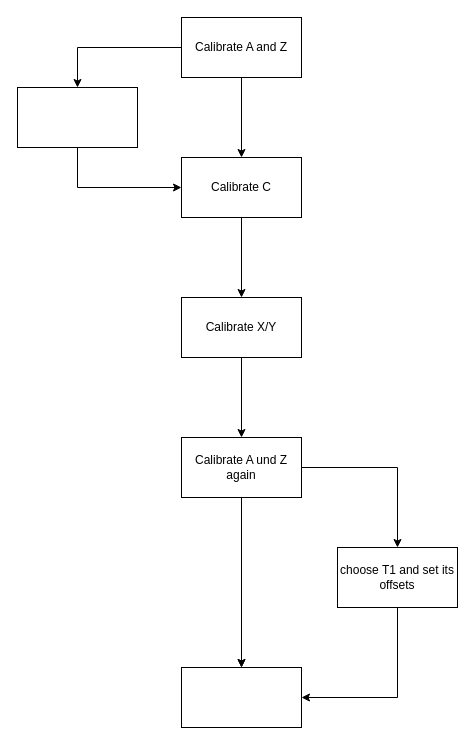
This 475x745 diagram has some shape labels left out. The box of each missing label's shape, as (x1, y1, x2, y2) in pixels:
Compensate for Temperature on Nozzle: (16, 86, 138, 148)
Go to Homing Position above bed: (180, 666, 302, 728)
